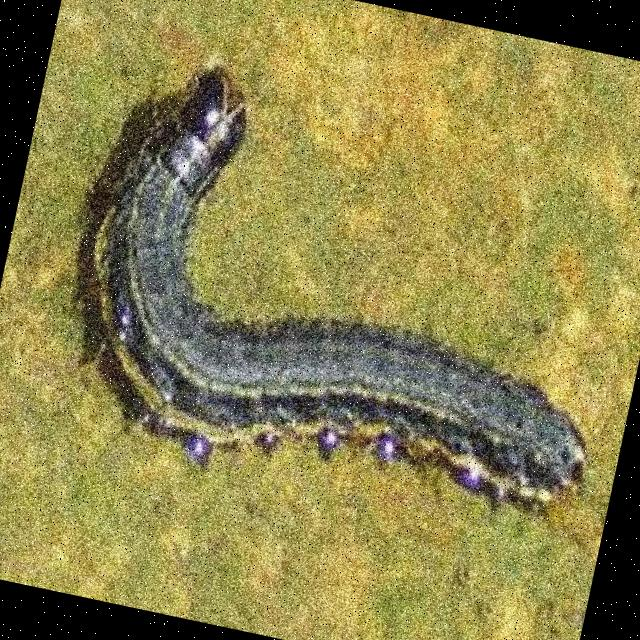worm: (37, 41, 640, 547)
